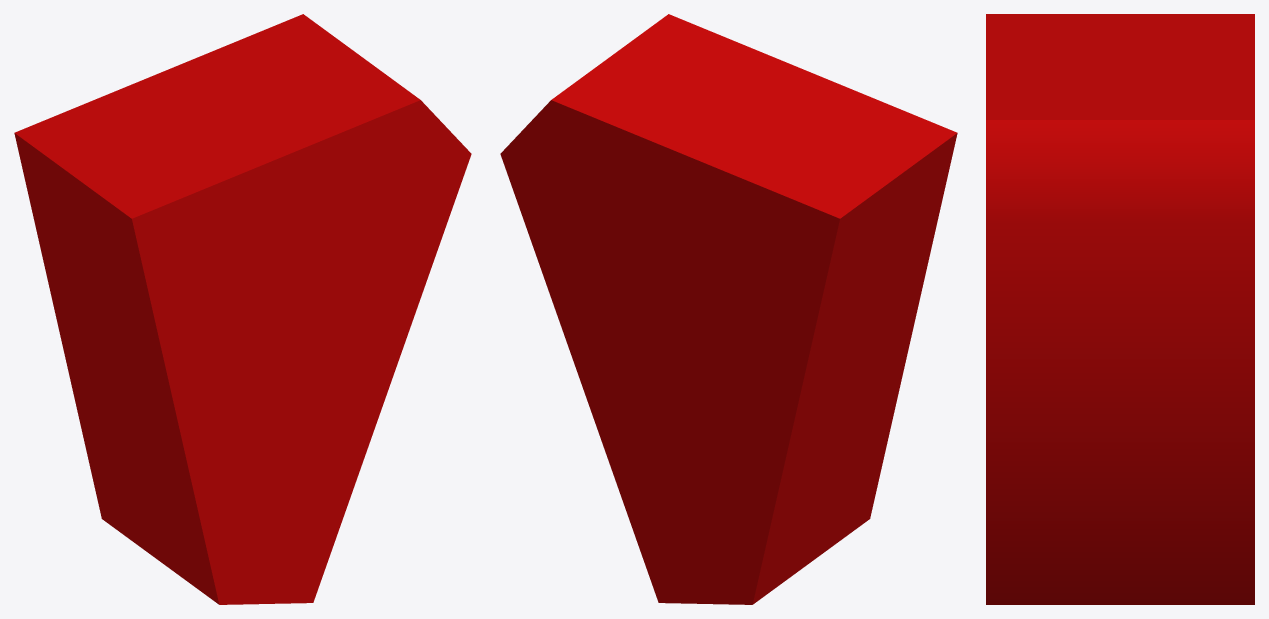
File: right_gripper_2_collision.dae
3 renders of one model, left to right at view 1: azimuth 30°, elevation 25°; view 2: azimuth 150°, elevation 25°; view 3: azimuth 270°, elevation 25°, orthographic. The views are drawn at different scales.
Visible parts, largest first — view 1: right_gripper_2_collision; view 2: right_gripper_2_collision; view 3: right_gripper_2_collision.
Boxes of the visible parts, x1,y1,x2,y2 form: right_gripper_2_collision: [14, 14, 471, 604]; right_gripper_2_collision: [500, 14, 957, 604]; right_gripper_2_collision: [986, 14, 1254, 604].
Bounding box in the file's own units: 0.0255 × 0.0342 × 0.0153.
